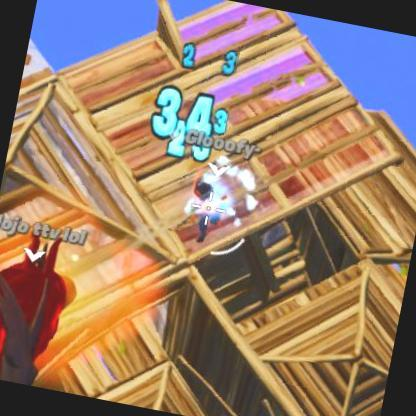person: (180, 181, 235, 250)
